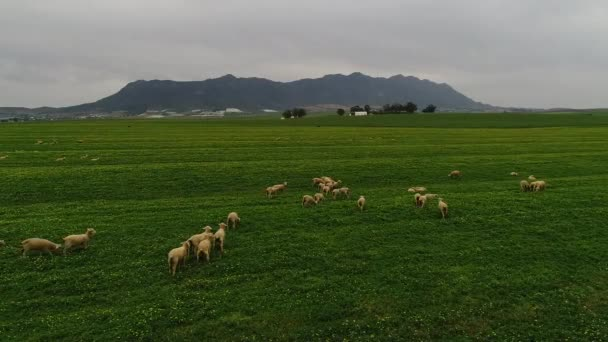sheep: (22, 237, 62, 260), (63, 228, 99, 253), (168, 240, 192, 273), (188, 226, 211, 249), (211, 221, 228, 250), (197, 237, 214, 260), (437, 195, 449, 218), (228, 211, 242, 227), (301, 194, 318, 207), (337, 186, 350, 200), (273, 181, 288, 193), (328, 178, 343, 189), (356, 195, 366, 211), (265, 186, 279, 197), (447, 169, 461, 180), (534, 180, 546, 192), (425, 192, 439, 202), (313, 192, 326, 202), (322, 183, 332, 195), (520, 179, 530, 191), (414, 192, 422, 206)
